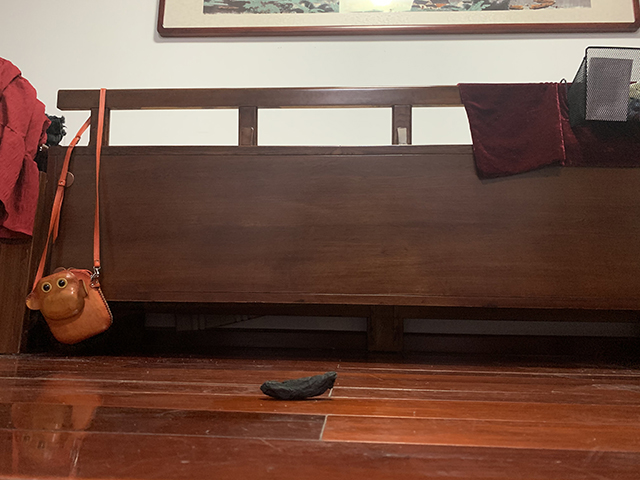bed: (1, 45, 640, 355)
feces: (259, 369, 338, 401)
